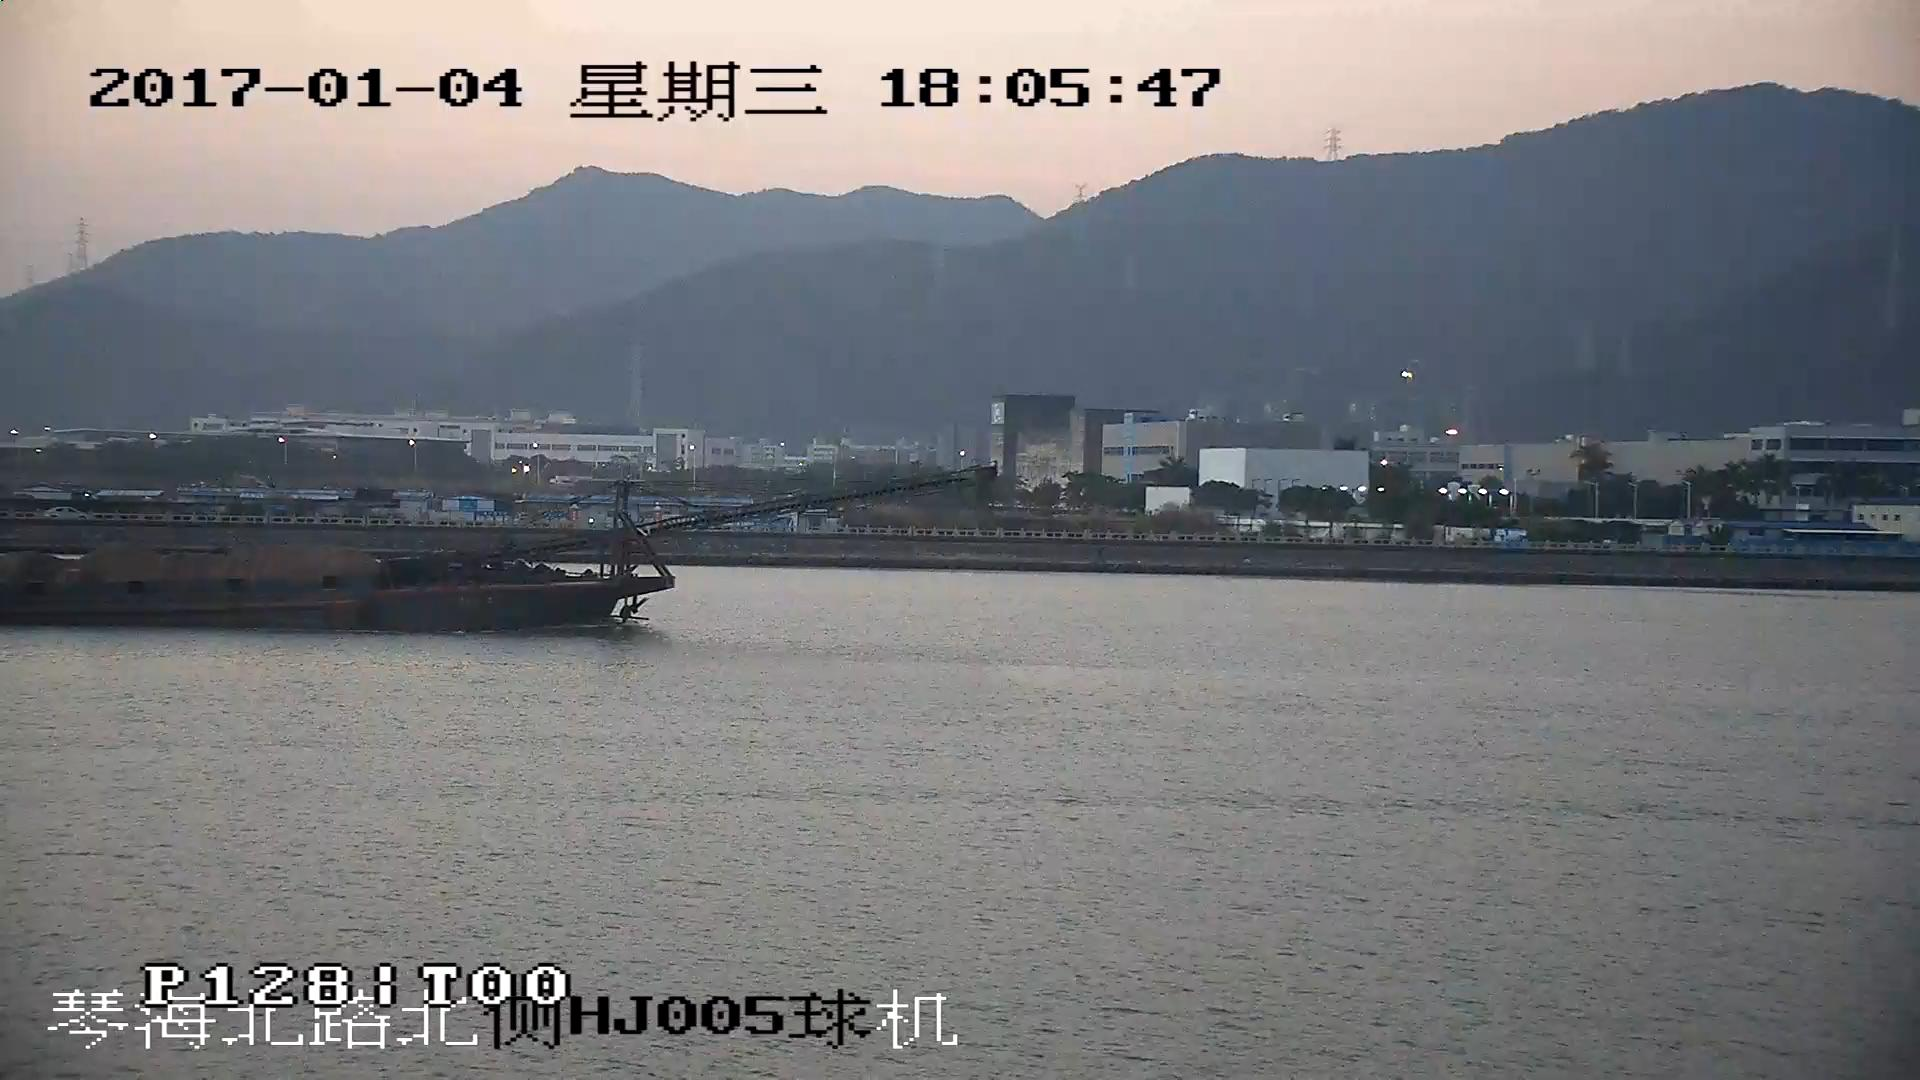ore carrier: (1, 465, 994, 632)
